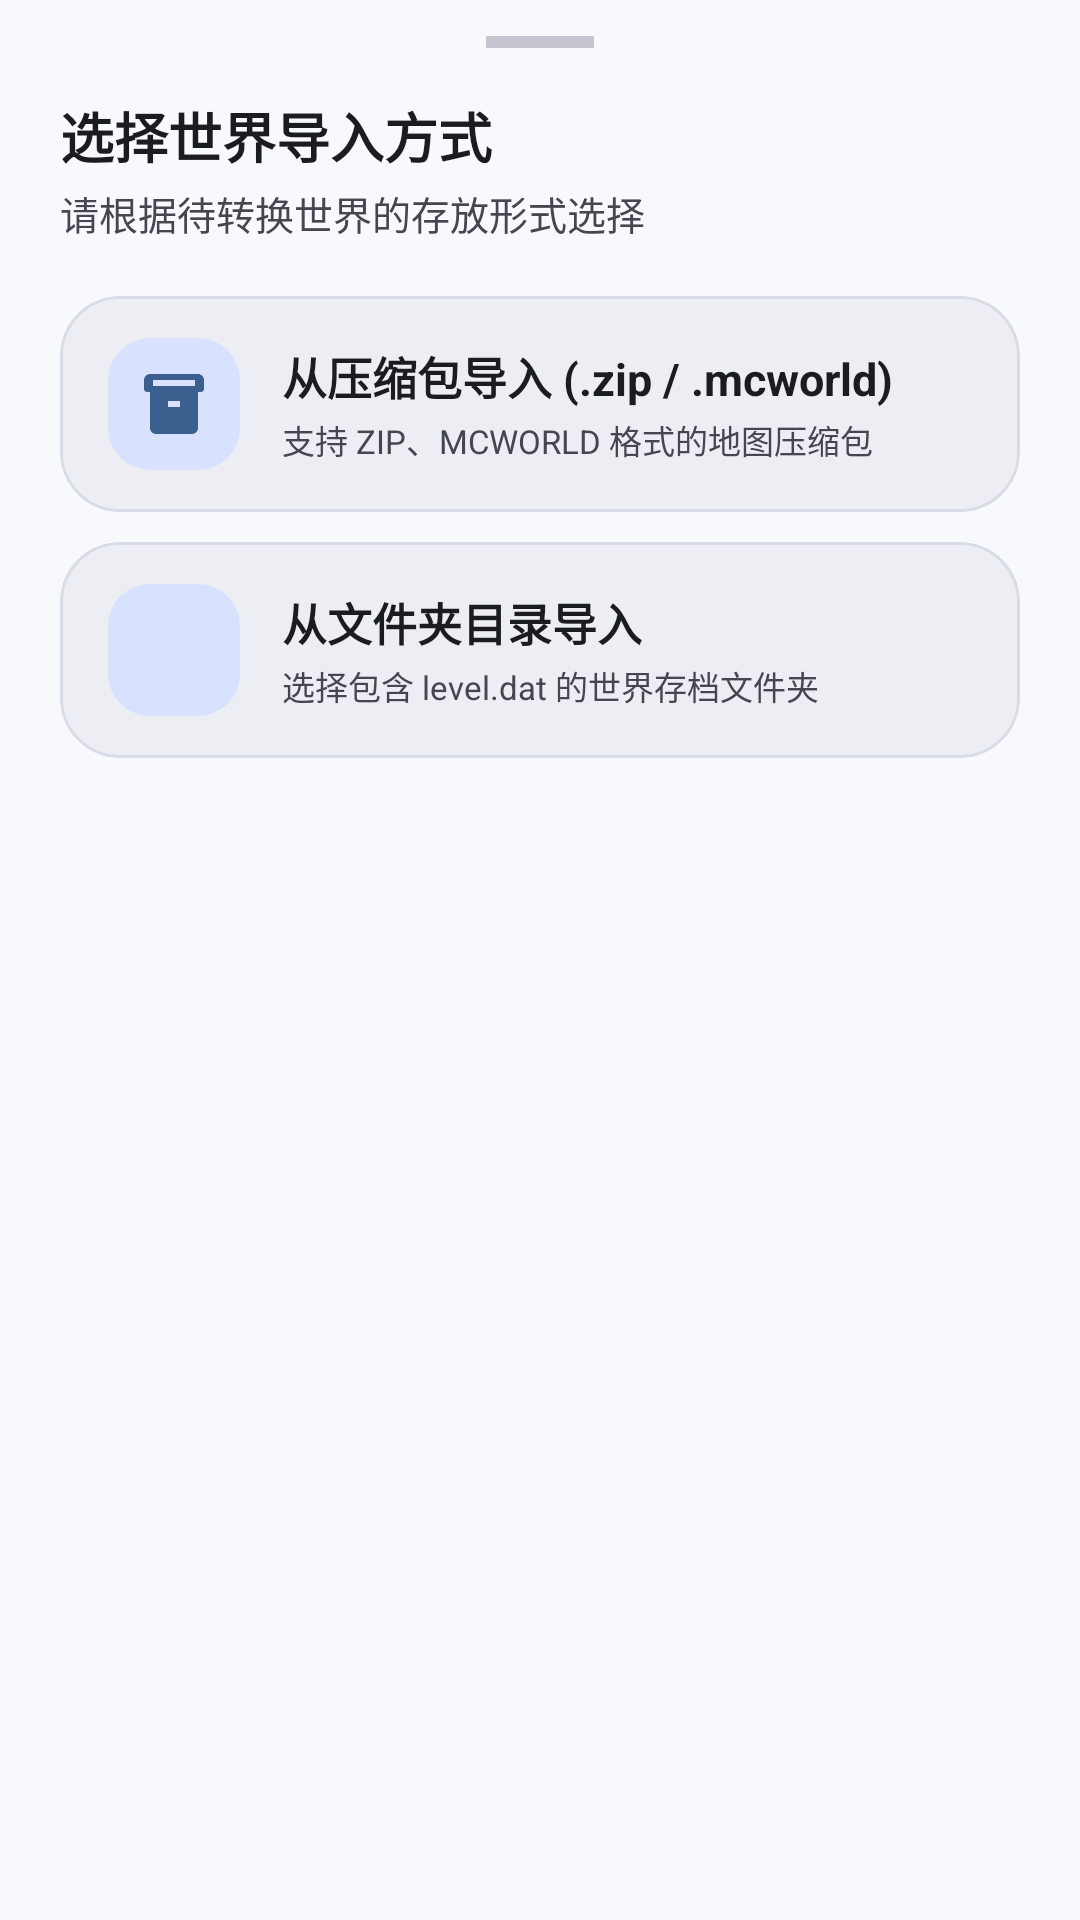

Icon click points for this 1080w x 1920h phone screenshot, format point (x, y):
archive: point (174, 404)
